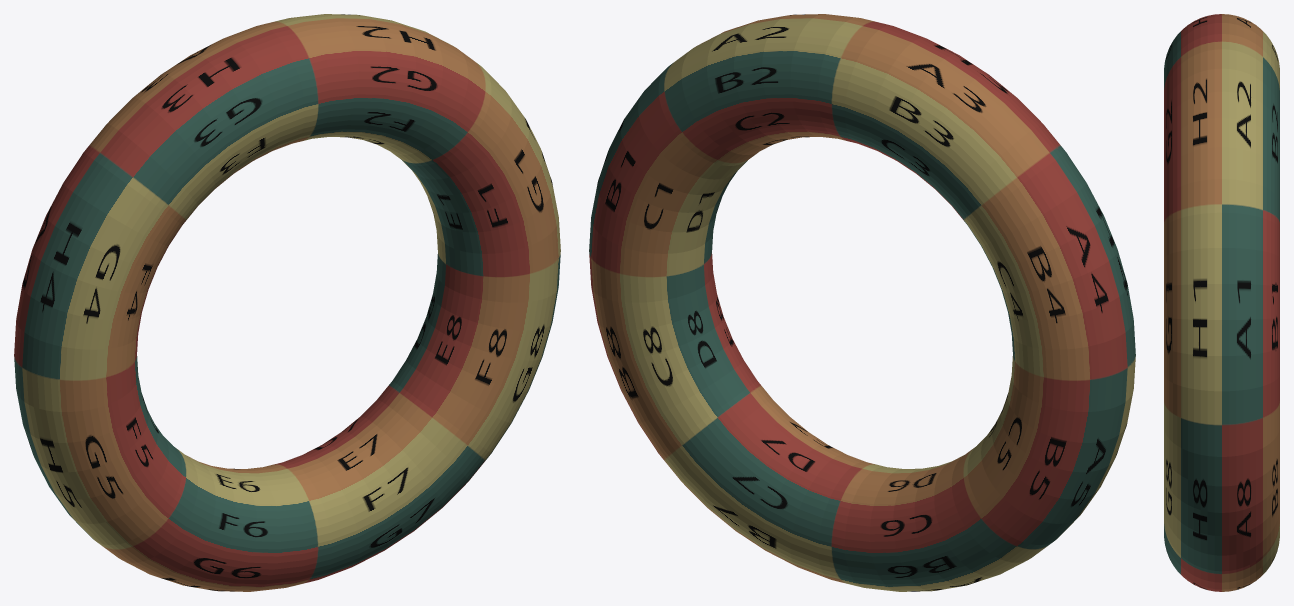
Rendered from texture_torus_R24_r17.glb.
3 views of the same model, side by side, from view 1: azimuth 30°, elevation 25°; view 2: azimuth 150°, elevation 25°; view 3: azimuth 270°, elevation 25° (orthographic). The views are drawn at different scales.
Parts seen in each view (by area): view 1: world; view 2: world; view 3: world.
Part boxes in pixels (left/top/right/bottom): world: left=14, top=14, right=560, bottom=591; world: left=589, top=14, right=1135, bottom=591; world: left=1164, top=14, right=1279, bottom=591.
Size of the model in its own units: 32.53 by 32.47 by 6.52.
1 material, 1 textured.
